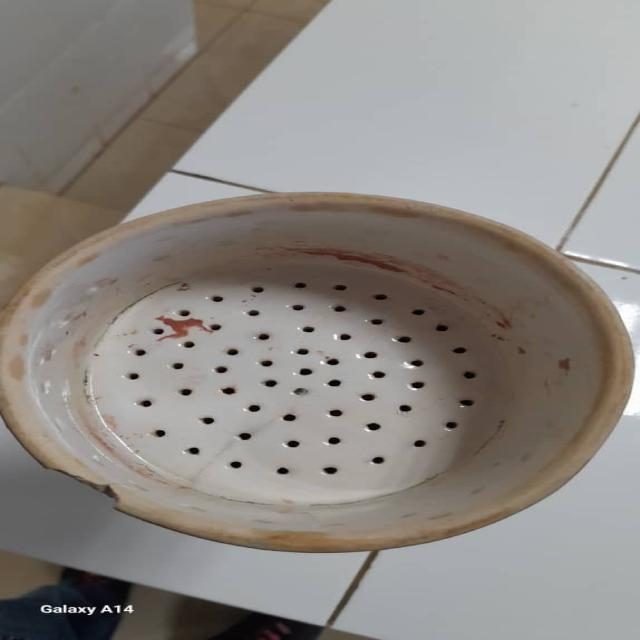Bunchen funnel: (2, 188, 629, 554)
